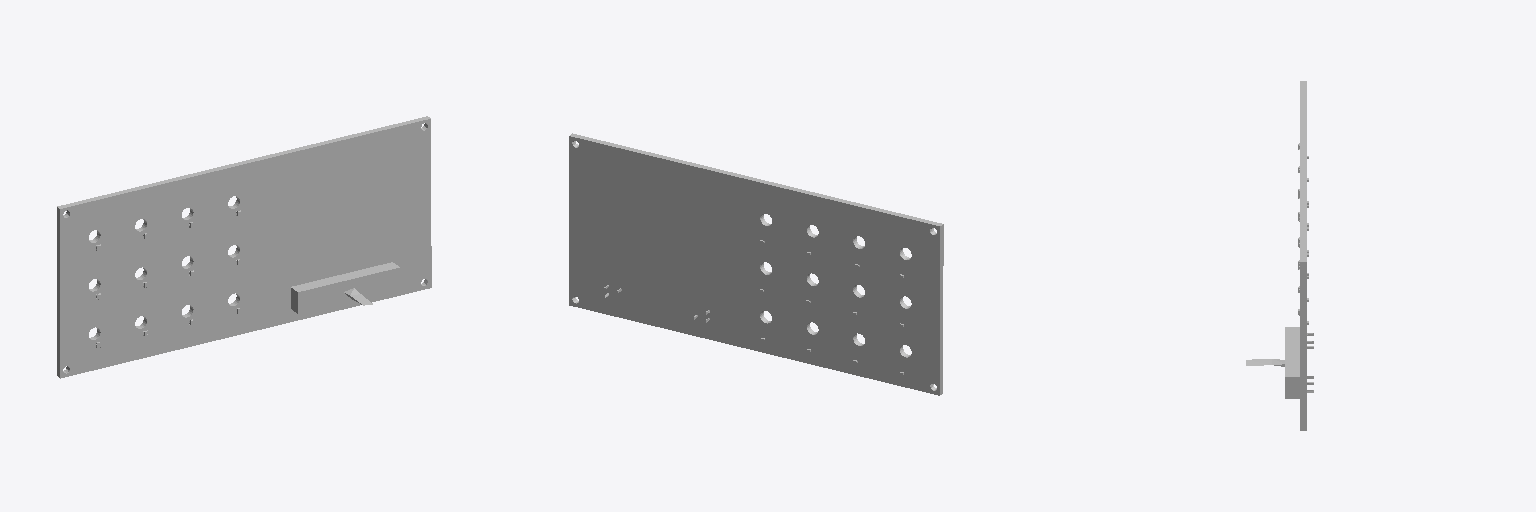
File: OBJ_PCB_keyboard mech.obj
3 views of the same model, side by side, from view 1: azimuth 30°, elevation 25°; view 2: azimuth 150°, elevation 25°; view 3: azimuth 270°, elevation 25° (orthographic).
Bounding box in the file's own units: 629 × 274 × 98.88.